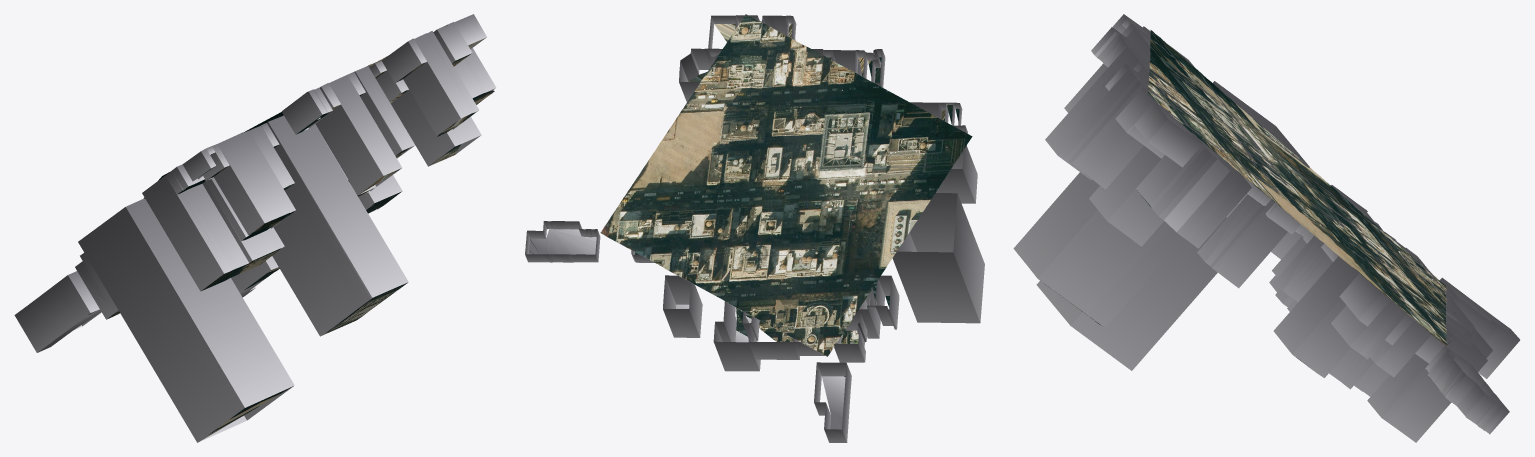
The picture shows the model from 3 angles, left to right: view 1: azimuth 30°, elevation 25°; view 2: azimuth 150°, elevation 25°; view 3: azimuth 270°, elevation 25°; orthographic projection. The views are drawn at different scales.
Bounding box in the file's own units: 351 × 278 × 298.
1 material, 1 textured.
